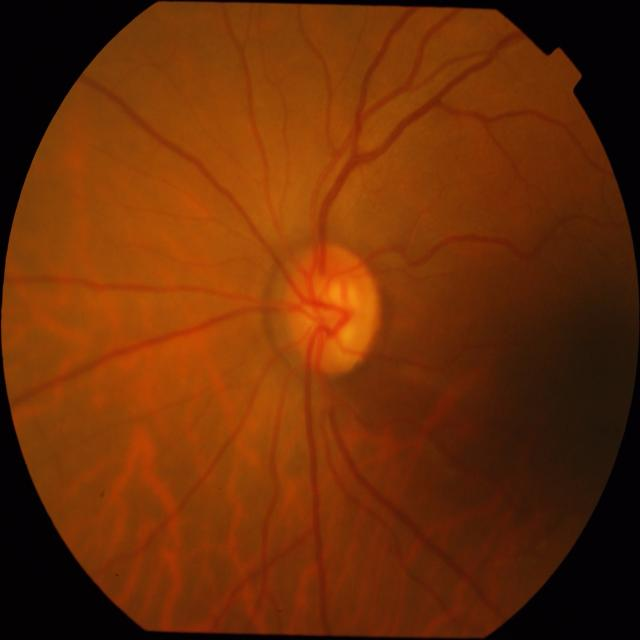OC: (300, 276, 357, 345)
OD: (282, 242, 382, 374)
